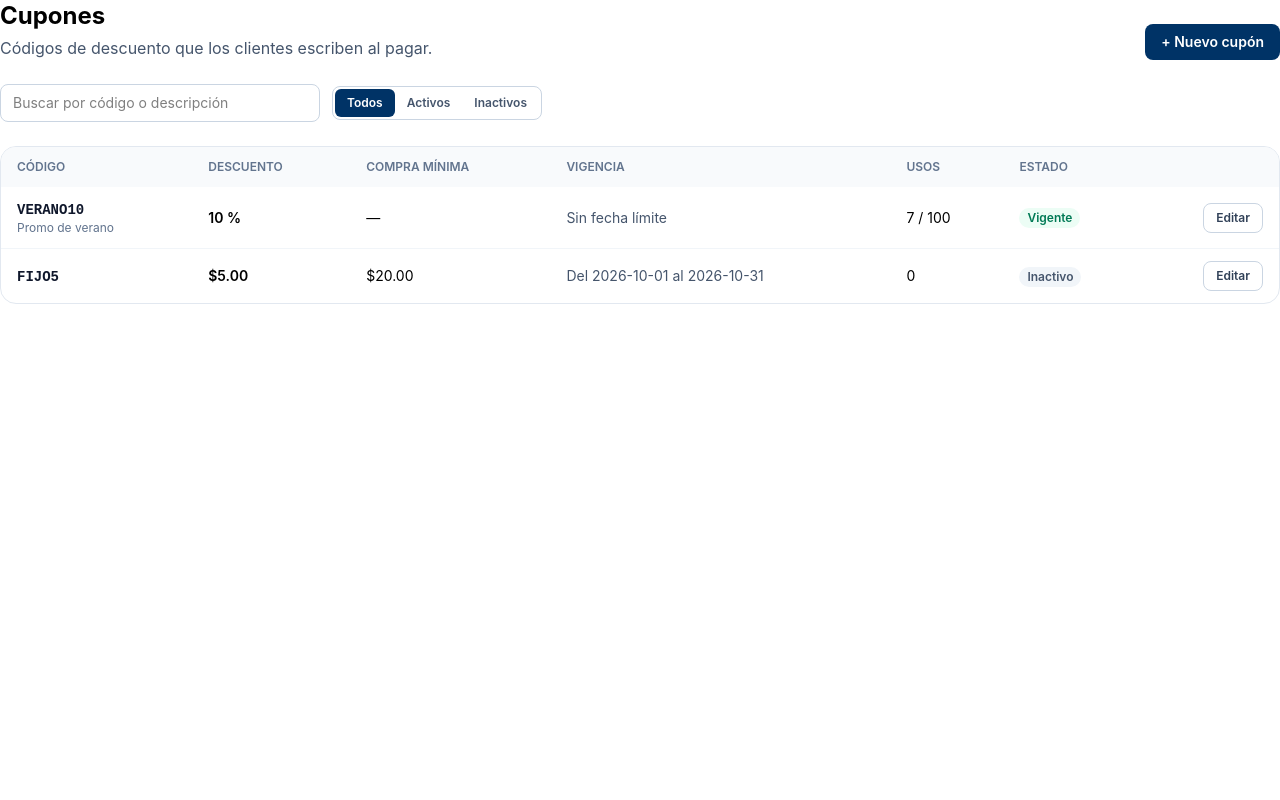
Cupones: crear y editar › un código repetido muestra el error de la API en el campo
Expected: the text "VERANO10" is shown, [17,202,84,218]
Click the button "+ Nuevo cupón": point(1213, 42) [1145,24,1279,60]
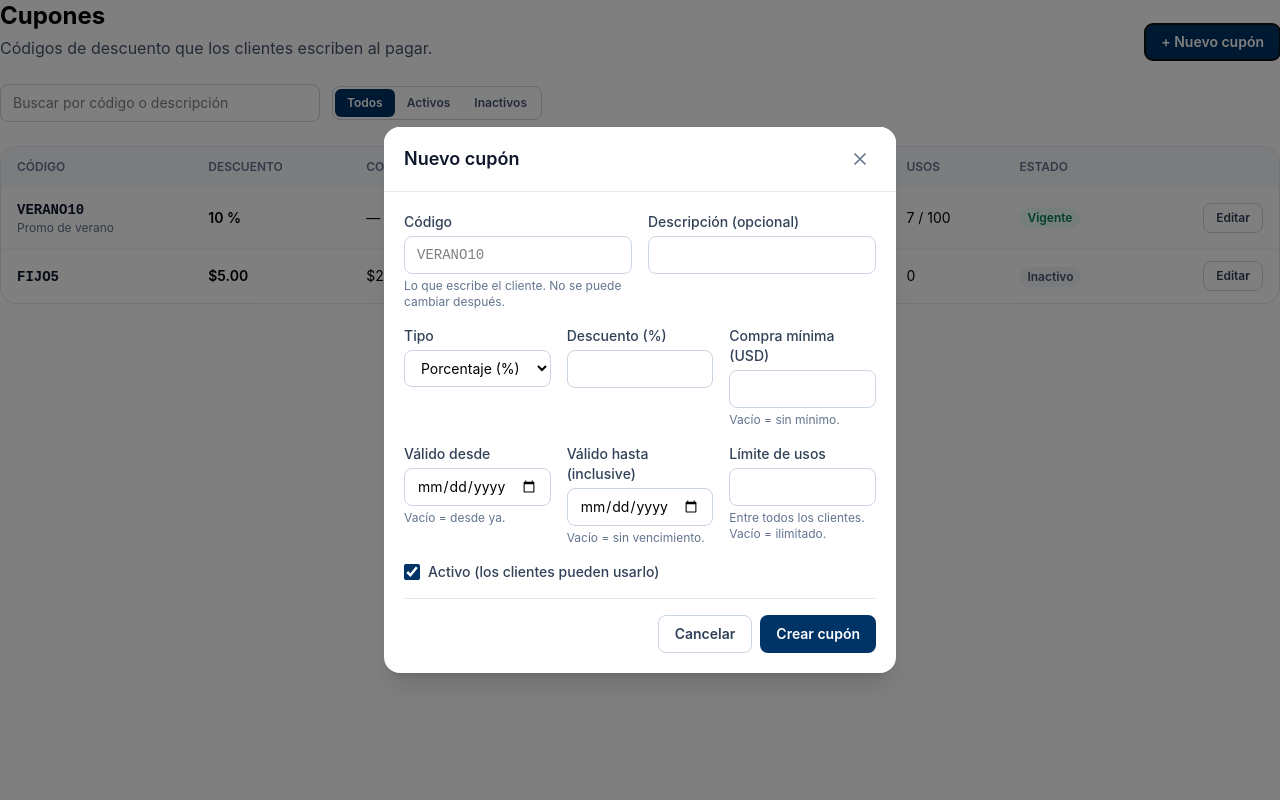
In the field labelled "Código": point(518, 255) [404,236,632,274], type "verano10"
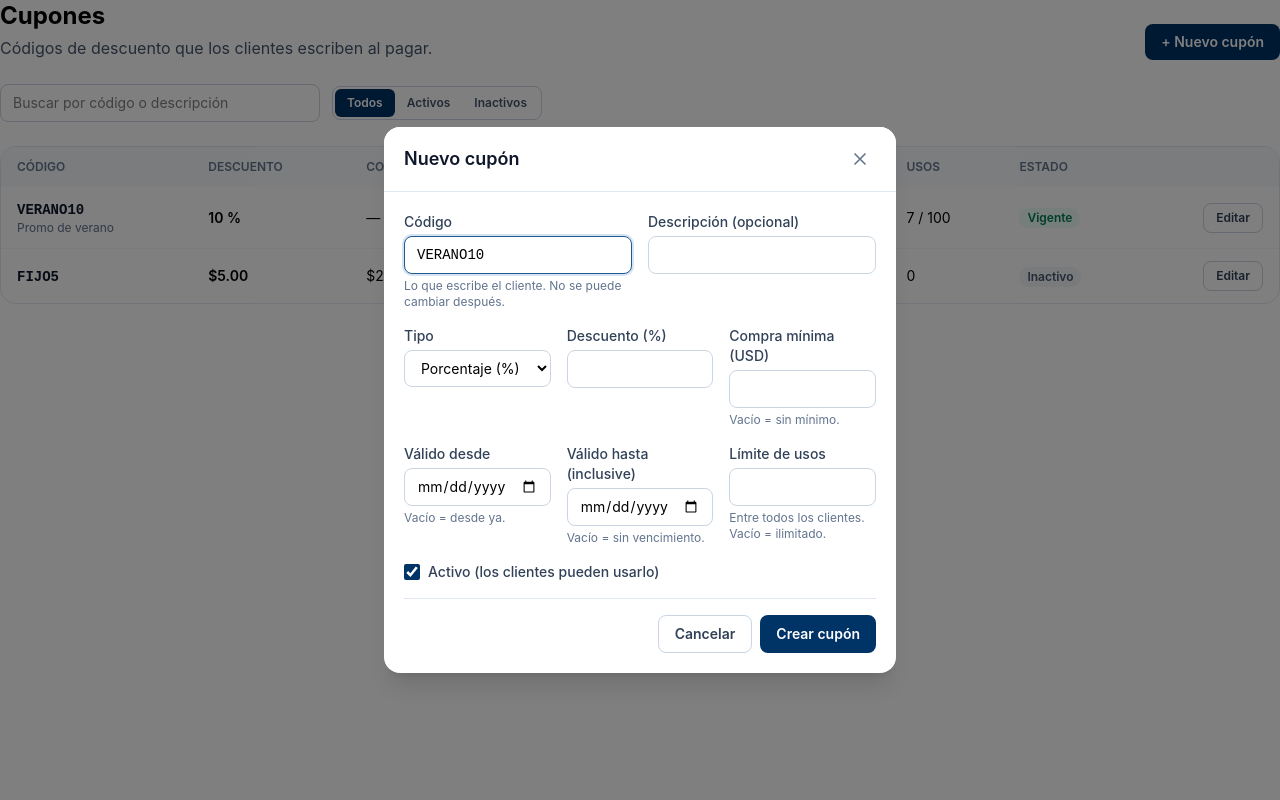
In the number field labelled "Descuento (%)": point(640, 369) [567,350,713,388], type "10"
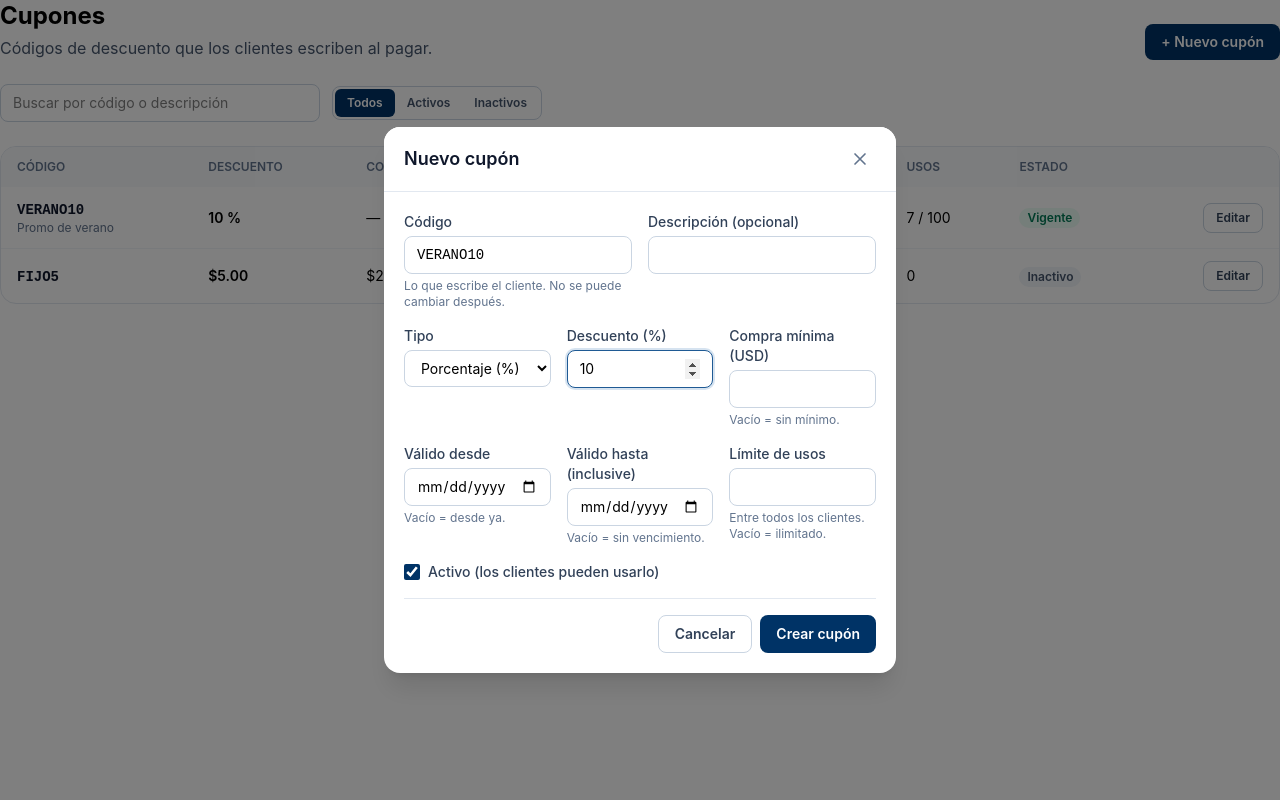
Click the button "Crear cupón": point(818, 634) [760,615,876,653]
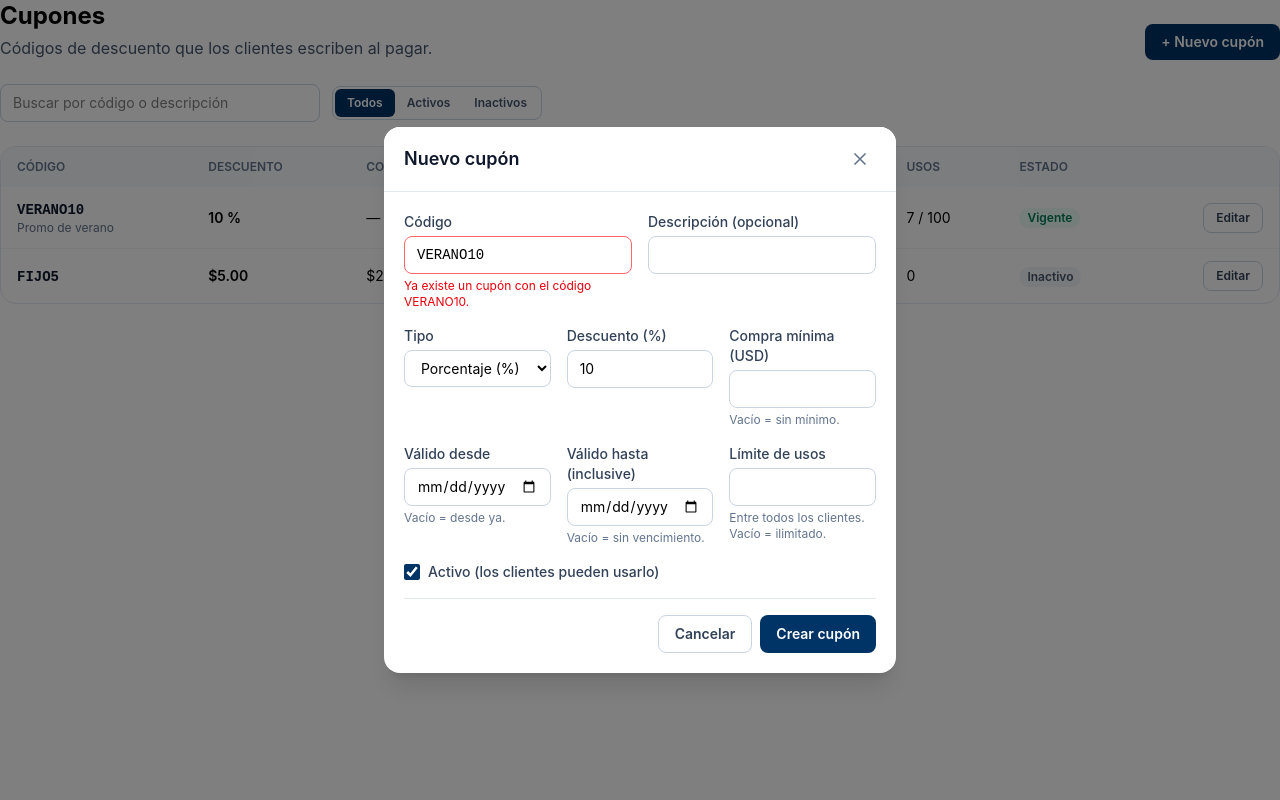
Result: the text "Ya existe un cupón con el código VERANO10." is shown at [404,278,591,309]
